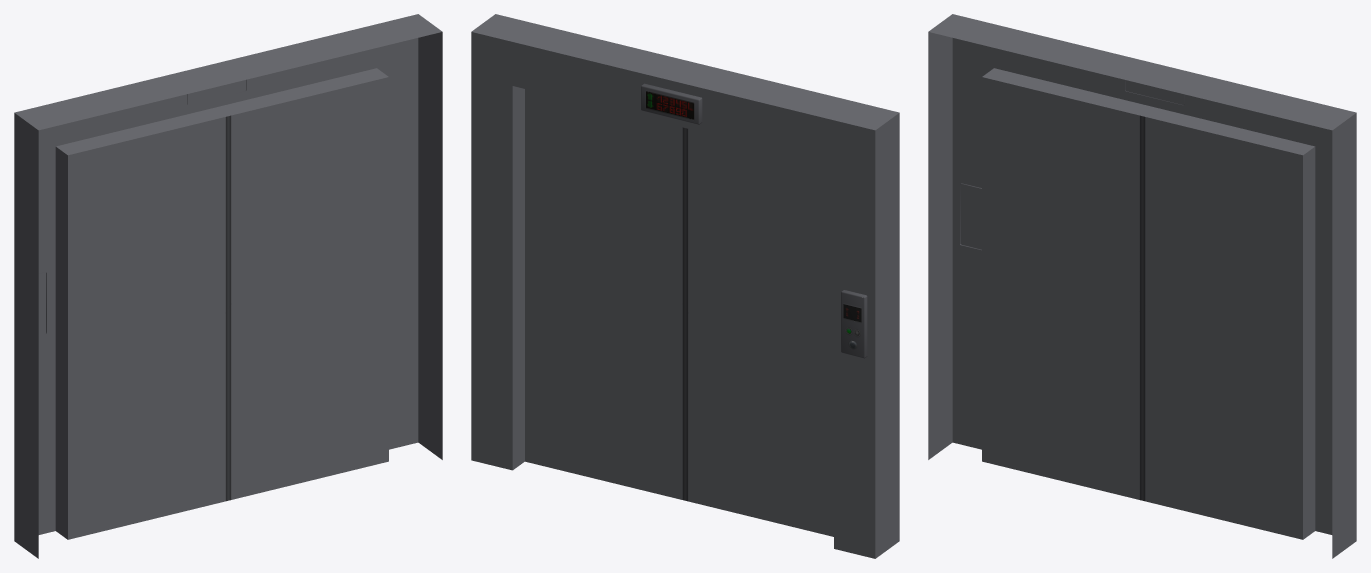
File: lift door.FBX
3 views of the same model, side by side, from view 1: azimuth 30°, elevation 25°; view 2: azimuth 150°, elevation 25°; view 3: azimuth 330°, elevation 25° (orthographic).
Parts seen in each view (by area): view 1: lift door; view 2: lift door; view 3: lift door.
Part boxes in pixels (<box>): lift door: <box>14,14,442,558</box>; lift door: <box>471,14,899,558</box>; lift door: <box>928,14,1356,558</box>.
Size of the model in its own units: 83.64 by 9.8 by 84.74.
